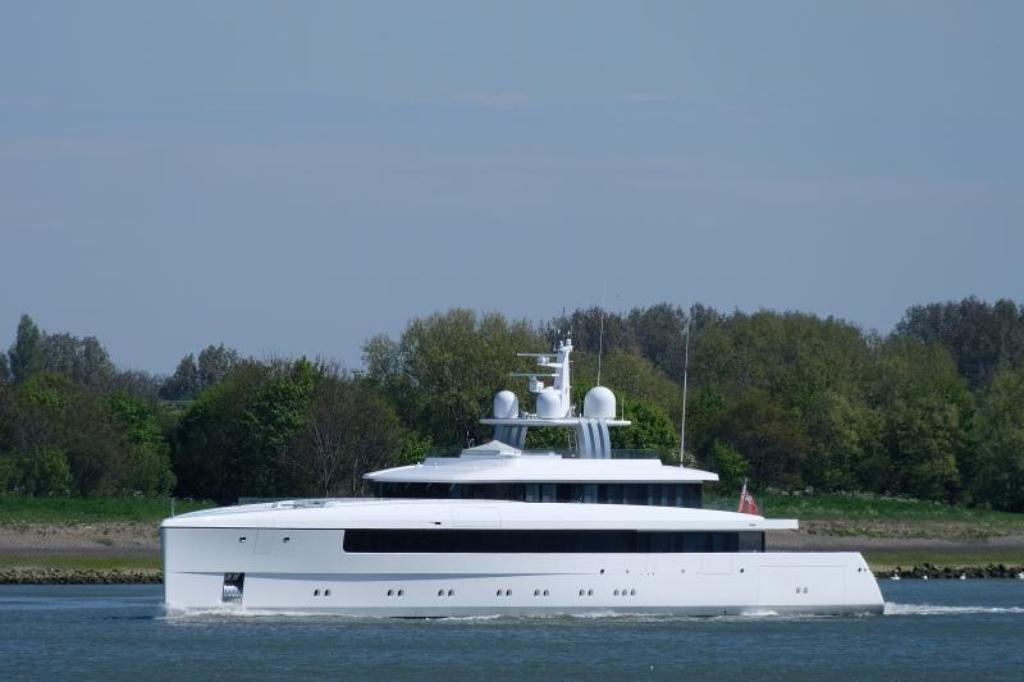PassengerShip: (147, 322, 893, 636)
